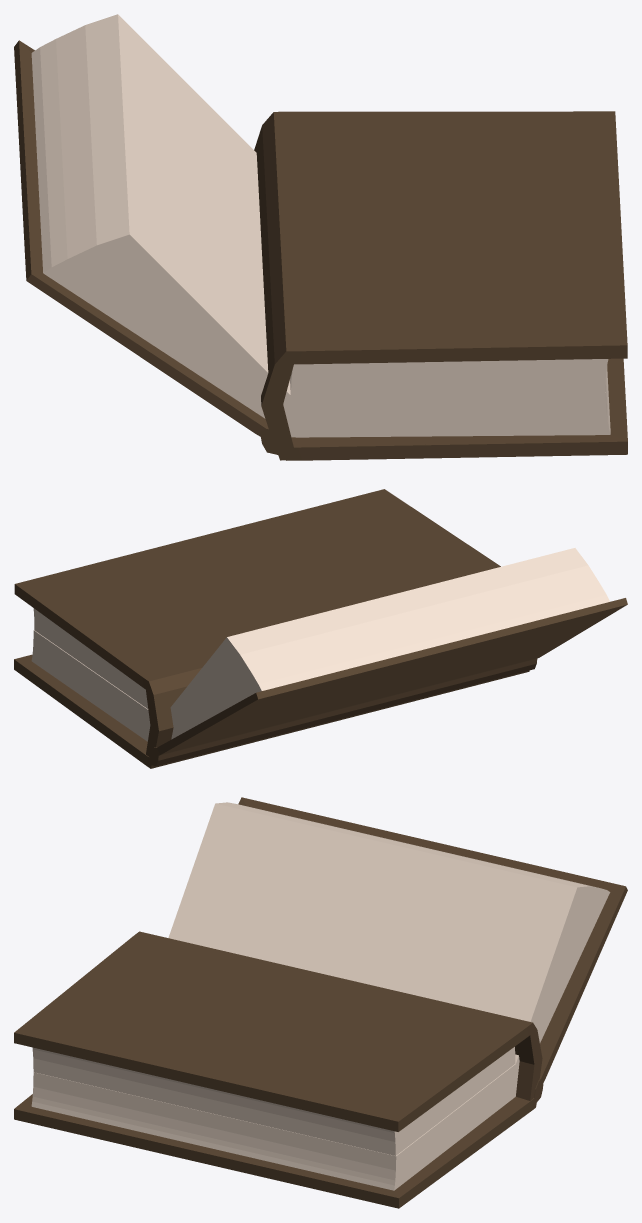
Rendered from libro.fbx.
3 views of the same model, one above another, from view 1: azimuth 30°, elevation 25°; view 2: azimuth 150°, elevation 25°; view 3: azimuth 270°, elevation 25° (orthographic). The views are drawn at different scales.
Visible parts, largest first — view 1: libro cerrado, libro abierto; view 2: libro abierto, libro cerrado; view 3: libro abierto, libro cerrado.
Part boxes in pixels (x1,y1,x2,y2): libro cerrado: (254,111,627,460); libro abierto: (14,14,627,460); libro abierto: (14,548,627,768); libro cerrado: (14,489,500,756); libro abierto: (14,797,627,1208); libro cerrado: (14,931,542,1155).
Size of the model in its own units: 1711 by 518 by 1671.
